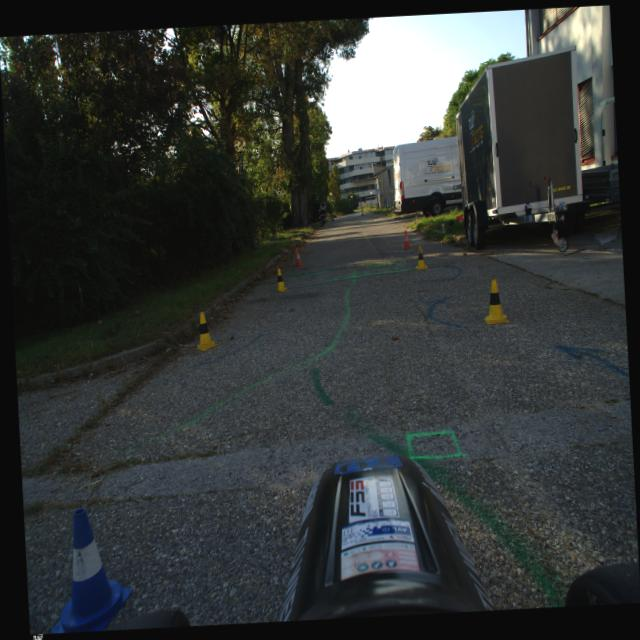blue_cone: (44, 504, 136, 634)
orange_cone: (292, 248, 304, 268), (402, 230, 412, 249)
yellow_cone: (481, 278, 510, 326), (192, 310, 219, 352), (272, 268, 290, 292), (414, 246, 428, 270)
